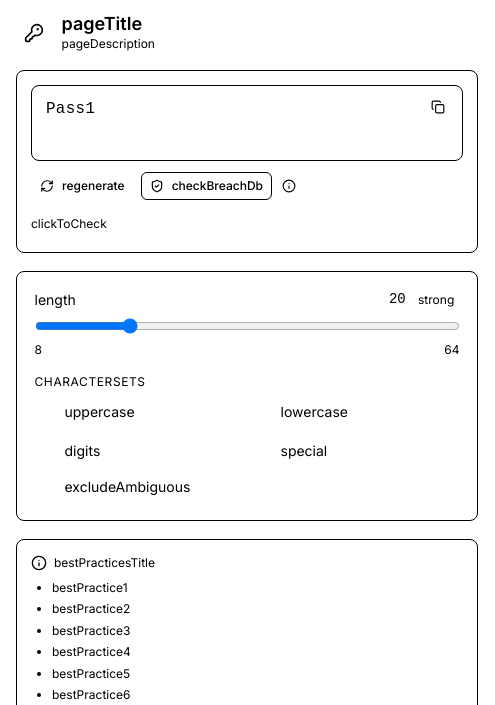
Test: PasswordGenerator › resets HIBP result when regenerating
The image size is (495, 705).
Expected: the text "Pass1" is shown, [46, 100, 95, 118]
# Check HIBP
Click the button with test id "check-hibp-btn": (206, 186) [141, 172, 272, 200]
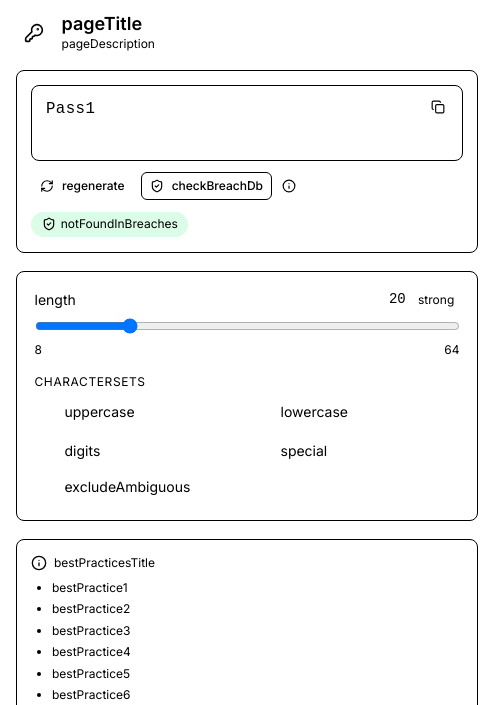
Now the element with test id "hibp-clean" is shown, box [31, 212, 188, 237]
Click the button with test id "generate-btn": (82, 186) [31, 172, 134, 200]
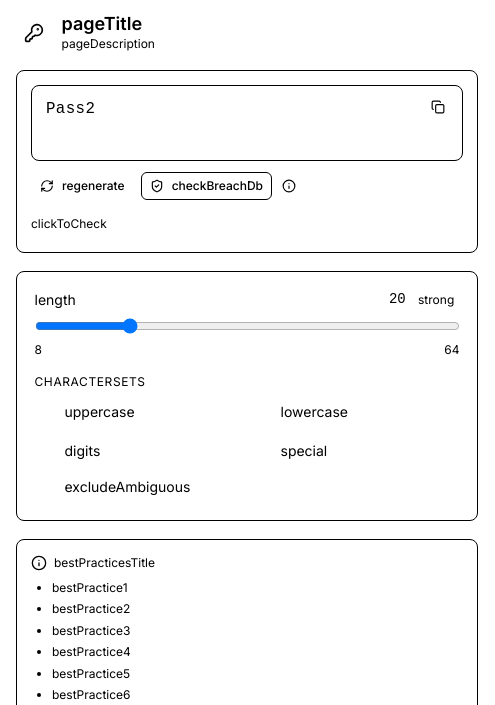
Now the text "Pass2" is shown, box [46, 100, 95, 118]
Now the element with test id "hibp-clean" is gone
